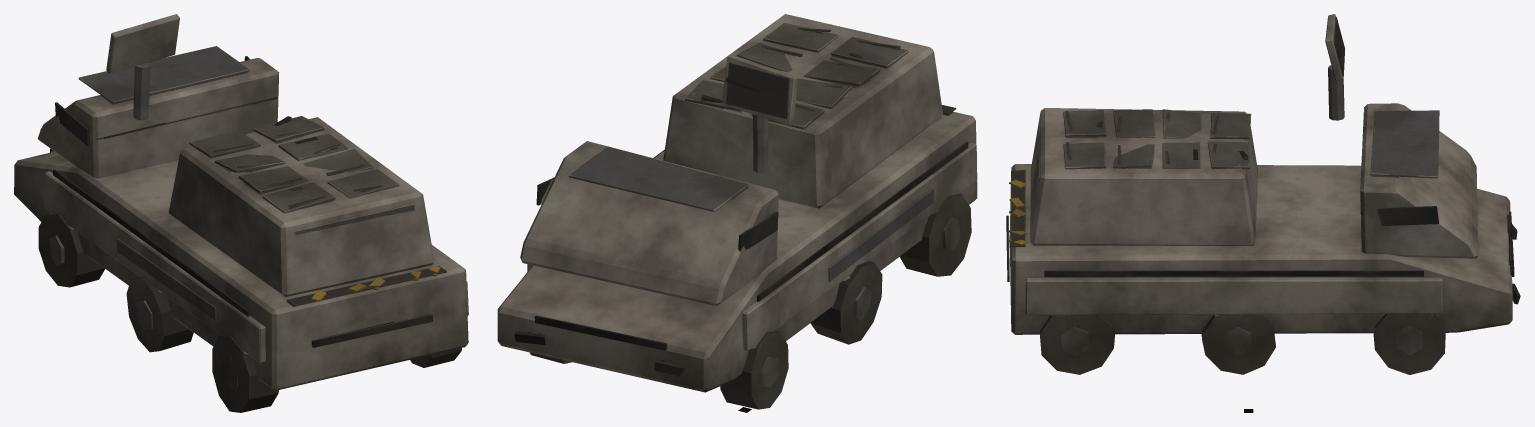
File: ord_shepherd_wreck.fbx
The picture shows the model from 3 angles, left to right: view 1: azimuth 30°, elevation 25°; view 2: azimuth 150°, elevation 25°; view 3: azimuth 270°, elevation 25°; orthographic projection. The views are drawn at different scales.
Parts seen in each view (by area): view 1: base_bar, launcher_bar, wheelL3_bar, wheelL2_bar, wheelL1_bar, radar_bar, wheelR3_bar; view 2: base_bar, launcher_bar, radar_bar, wheelL3_bar, wheelL2_bar, wheelL1_bar; view 3: base_bar, launcher_bar, wheelR3_bar, wheelR1_bar, wheelR2_bar, radar_bar.
Part boxes in pixels (box(x1,y1,x2,y2)): base_bar: box(14, 46, 468, 390); launcher_bar: box(168, 116, 434, 296); wheelL3_bar: box(212, 335, 278, 412); wheelL2_bar: box(126, 276, 193, 352); wheelL1_bar: box(38, 213, 104, 287); radar_bar: box(106, 14, 179, 73); wheelR3_bar: box(410, 348, 461, 367); base_bar: box(497, 105, 977, 392); launcher_bar: box(663, 14, 943, 208); radar_bar: box(722, 54, 797, 126); wheelL3_bar: box(900, 194, 971, 276); wheelL2_bar: box(810, 261, 882, 344); wheelL1_bar: box(720, 330, 788, 409); base_bar: box(1006, 65, 1520, 334); launcher_bar: box(1030, 108, 1257, 245); wheelR3_bar: box(1039, 314, 1114, 374); wheelR1_bar: box(1373, 313, 1445, 374); wheelR2_bar: box(1201, 314, 1275, 374); radar_bar: box(1325, 14, 1344, 80).
Bounding box in the file's own units: 520 × 839 × 1090.
2 materials, 2 textured.
